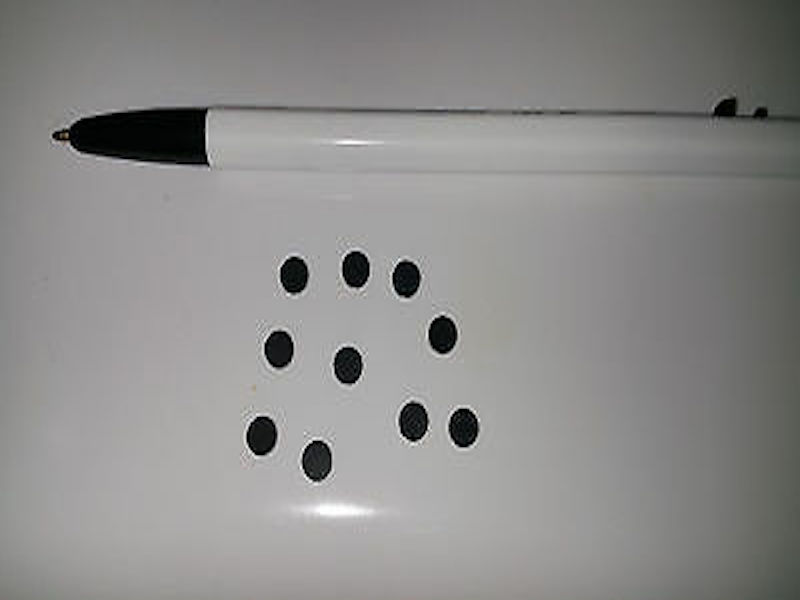hole: (298, 436, 336, 485), (445, 404, 482, 453), (388, 255, 425, 301), (276, 253, 313, 299), (261, 326, 297, 372), (338, 247, 374, 293), (332, 341, 367, 388), (424, 312, 459, 358), (244, 412, 279, 458), (396, 398, 431, 444)
